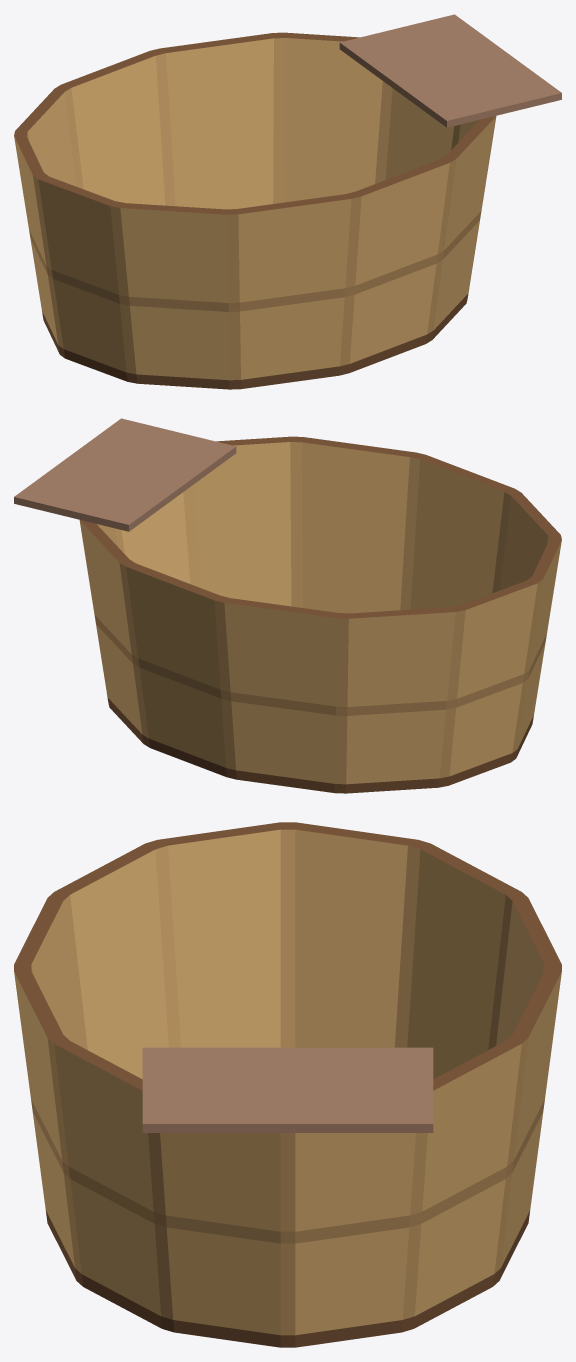
File: BathTub.fbx
3 views of the same model, one above another, from view 1: azimuth 30°, elevation 25°; view 2: azimuth 150°, elevation 25°; view 3: azimuth 270°, elevation 25° (orthographic). The views are drawn at different scales.
Parts seen in each view (by area): view 1: Circle, Cube.014; view 2: Circle, Cube.014; view 3: Circle, Cube.014.
Boxes of the visible parts, x1=… form: Circle: x1=14, y1=32, x2=496, y2=389; Cube.014: x1=339, y1=14, x2=561, y2=127; Circle: x1=79, y1=436, x2=561, y2=793; Cube.014: x1=14, y1=418, x2=236, y2=531; Circle: x1=14, y1=822, x2=561, y2=1347; Cube.014: x1=142, y1=1047, x2=433, y2=1132.
Size of the model in its own units: 3.7 by 2.74 by 1.45.
1 material, 1 textured.
